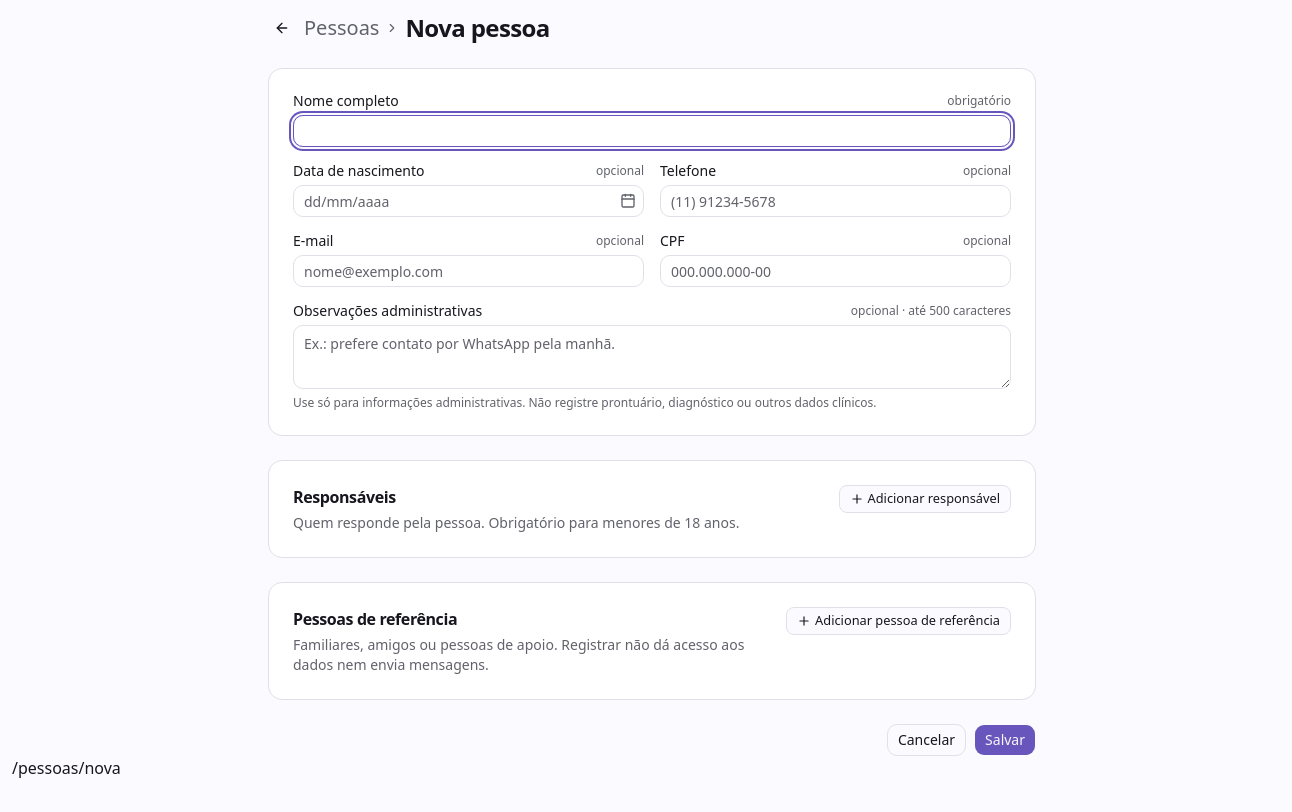
ClientFormPage › local validation › blocks the submit and explains the missing name
The image size is (1292, 812).
Click the button "Salvar". click: (1005, 740)
box: [974,724,1036,756]
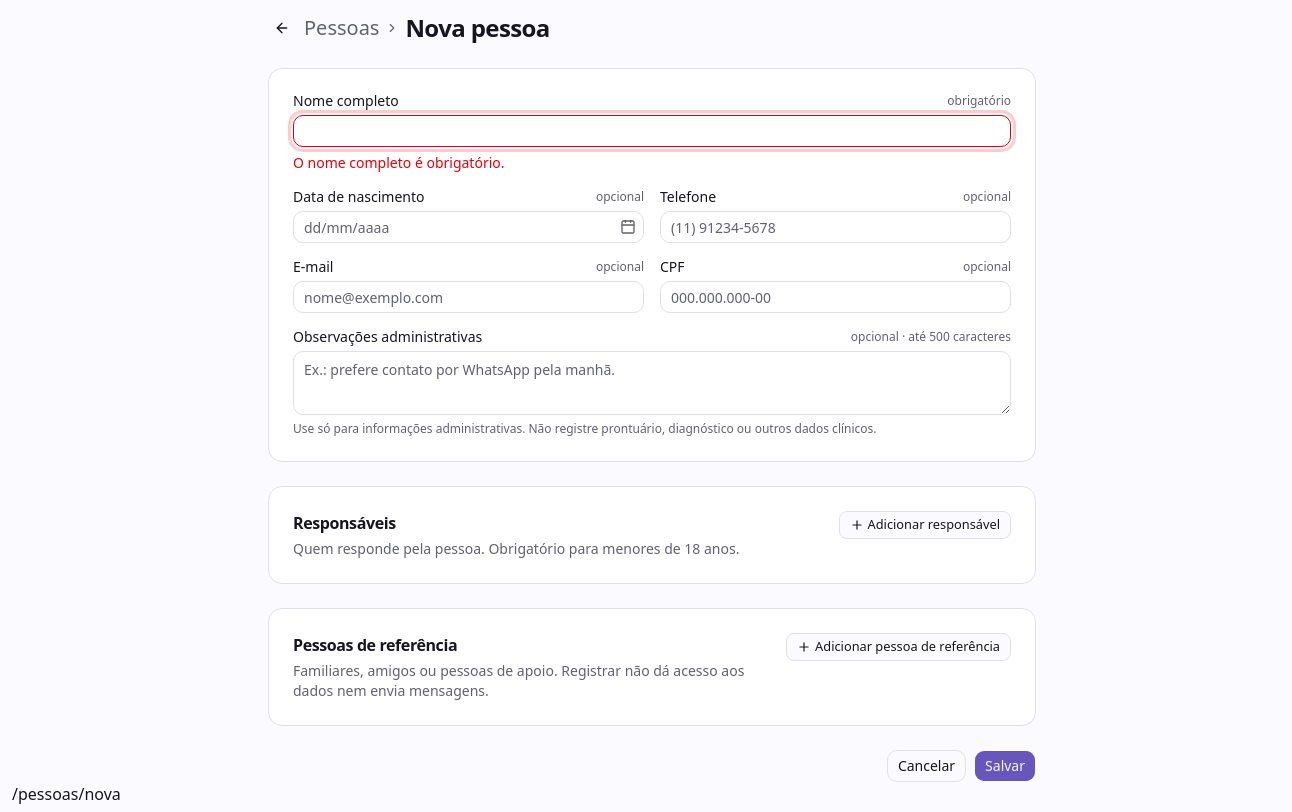
Check: the text "O nome completo é obrigatório." is shown, box [293,153,504,172]
